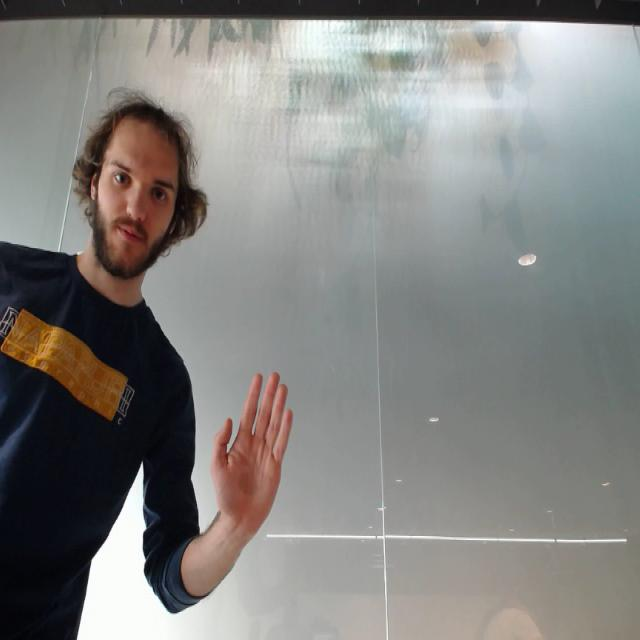backward: (210, 367, 296, 542)
